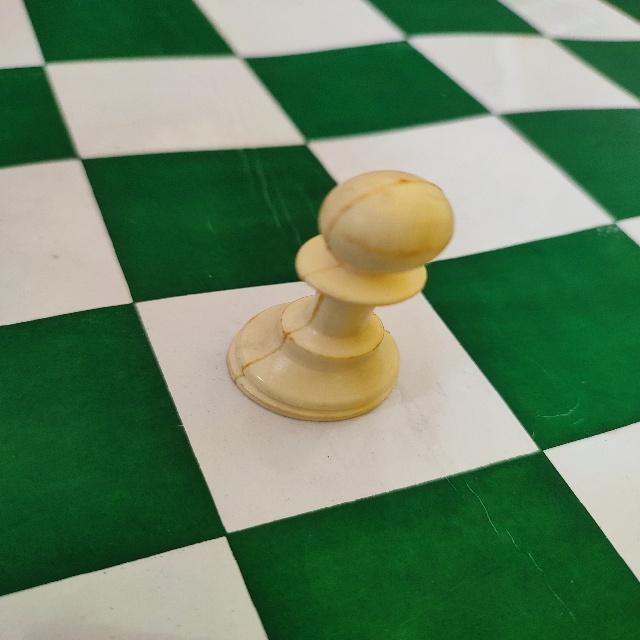Pawn: (220, 166, 457, 430)
